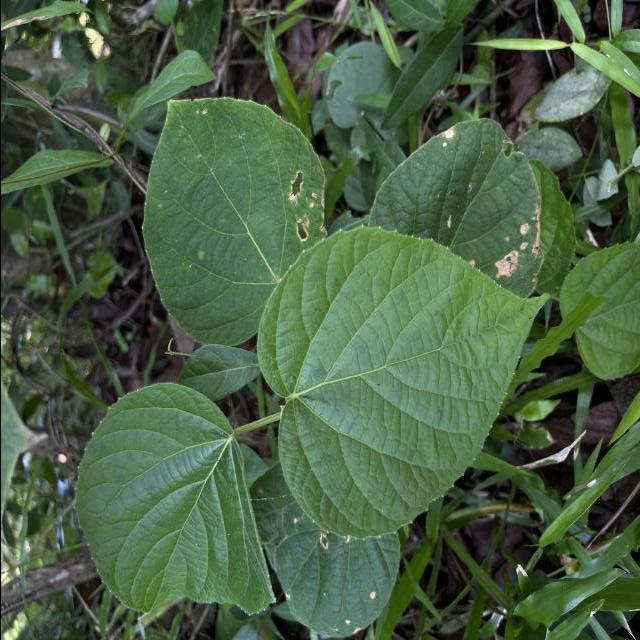Clerodendrum infortunatum: (251, 217, 550, 542), (138, 89, 328, 347), (71, 380, 278, 614)
